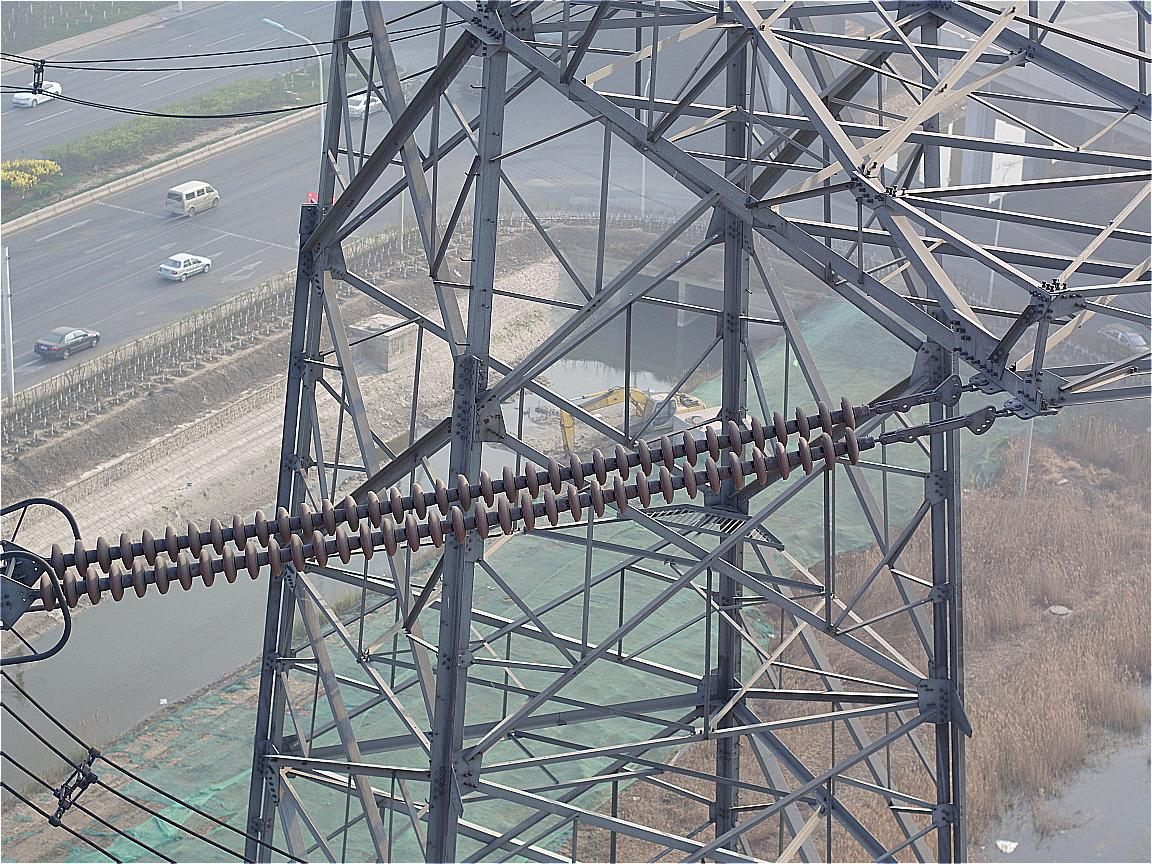insultor1: (39, 394, 863, 613)
